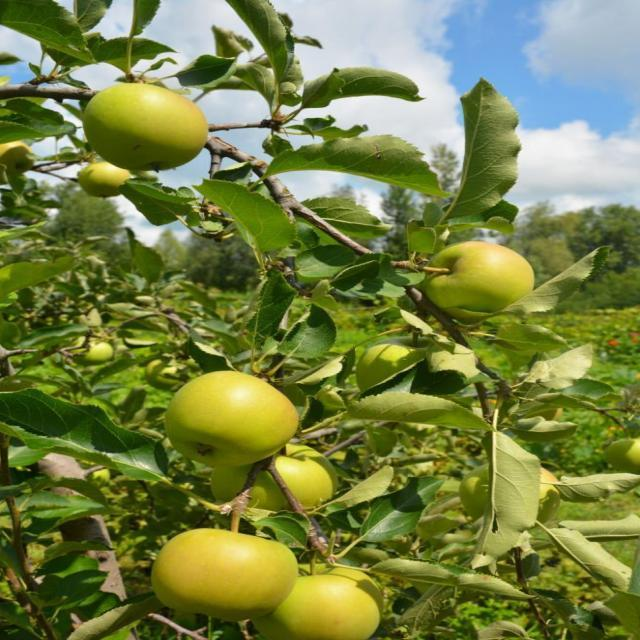Green Apple: (156, 526, 293, 624), (169, 369, 299, 472), (84, 78, 206, 163), (261, 557, 382, 640), (229, 435, 337, 511), (430, 245, 536, 315), (370, 340, 465, 393), (69, 156, 132, 195), (1, 130, 30, 183), (78, 334, 119, 363), (609, 438, 640, 476)
